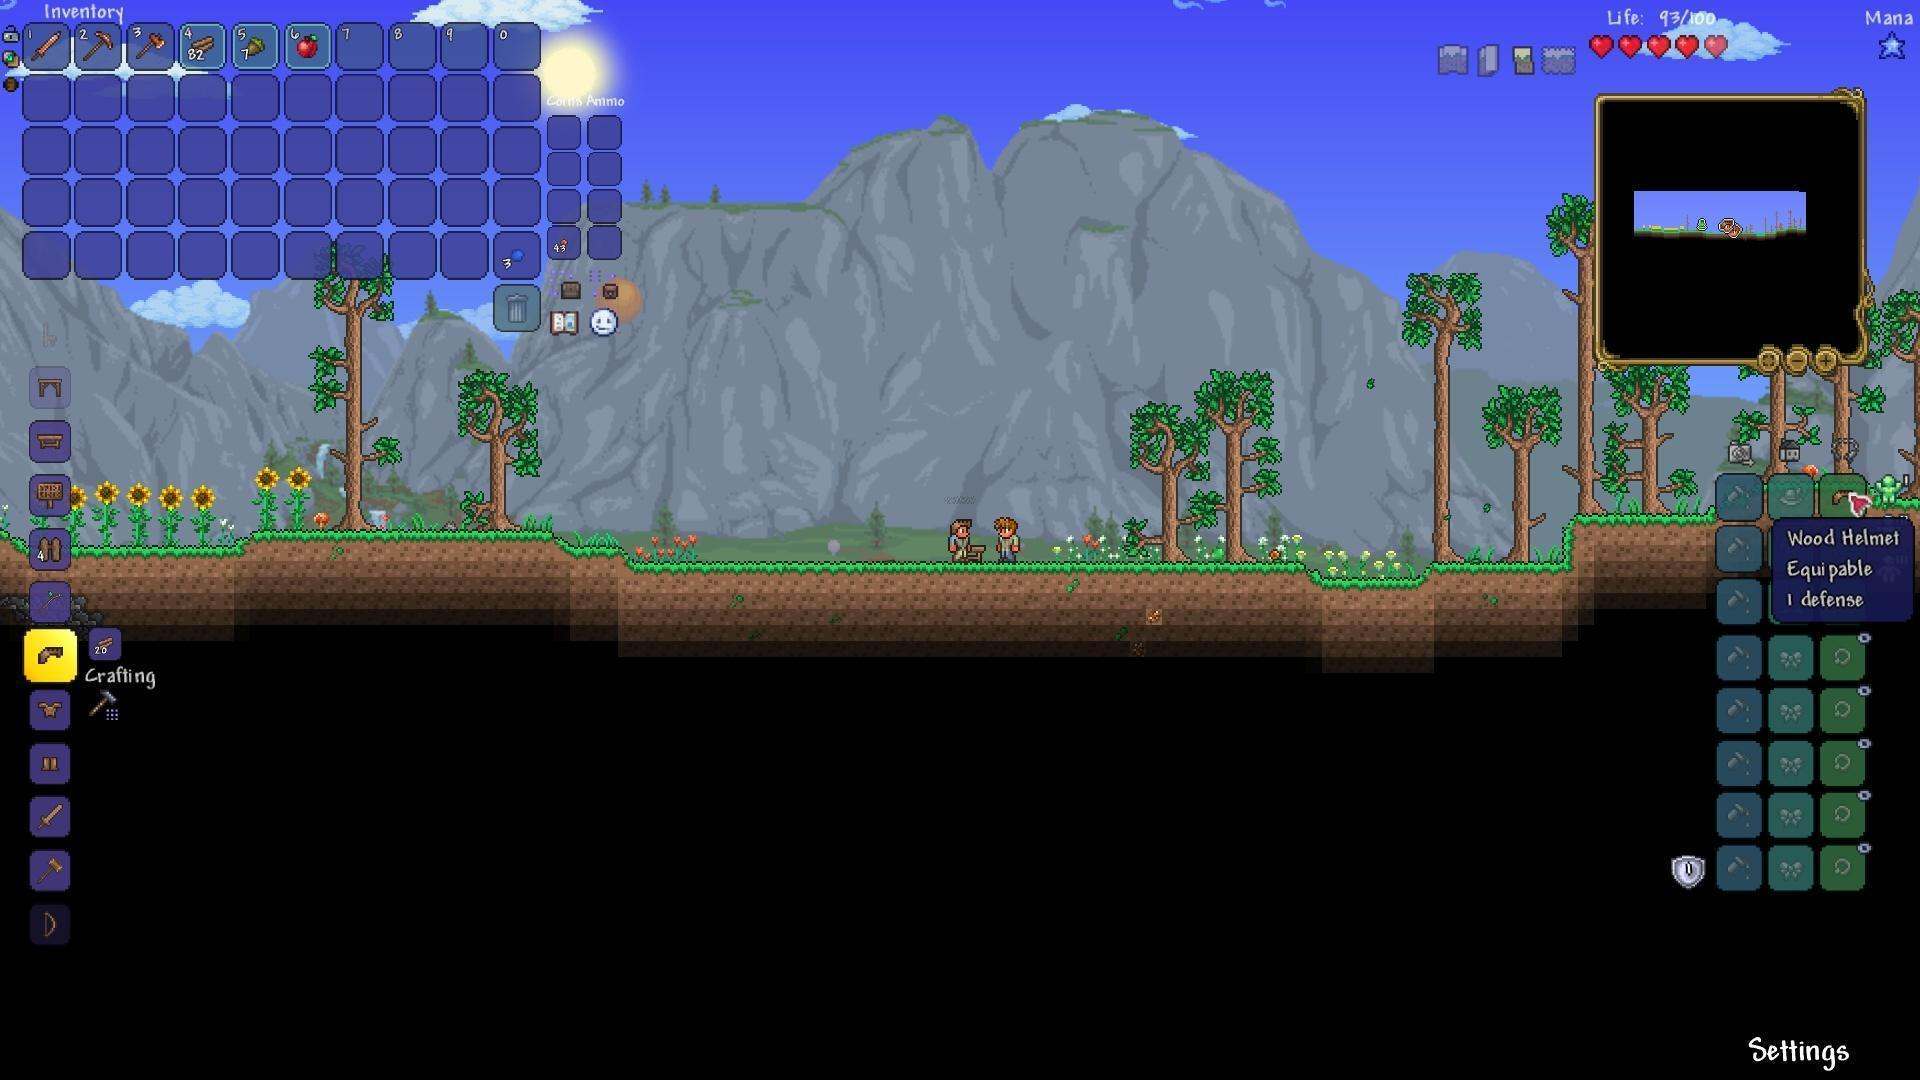breastplate: (34, 699, 65, 720)
helmet: (33, 638, 63, 666), (1834, 483, 1861, 508)
wood: (187, 34, 214, 59), (92, 633, 117, 658)
workbench: (959, 542, 996, 567), (28, 429, 65, 454)
